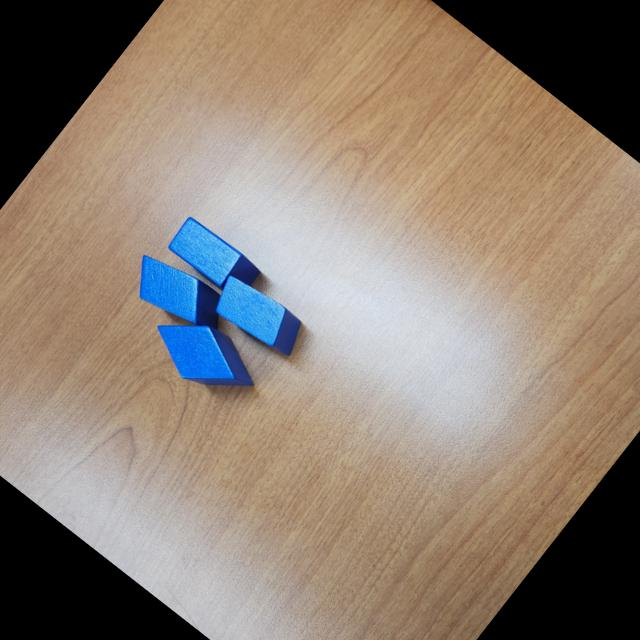blue: (142, 298, 268, 417), (120, 241, 236, 348), (204, 268, 311, 366), (163, 212, 266, 306)
